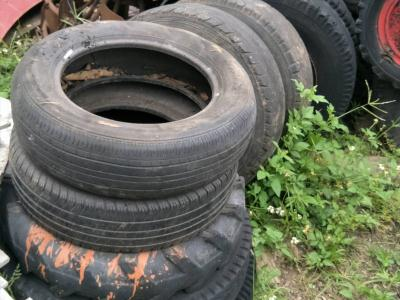tire: (7, 18, 262, 200)
